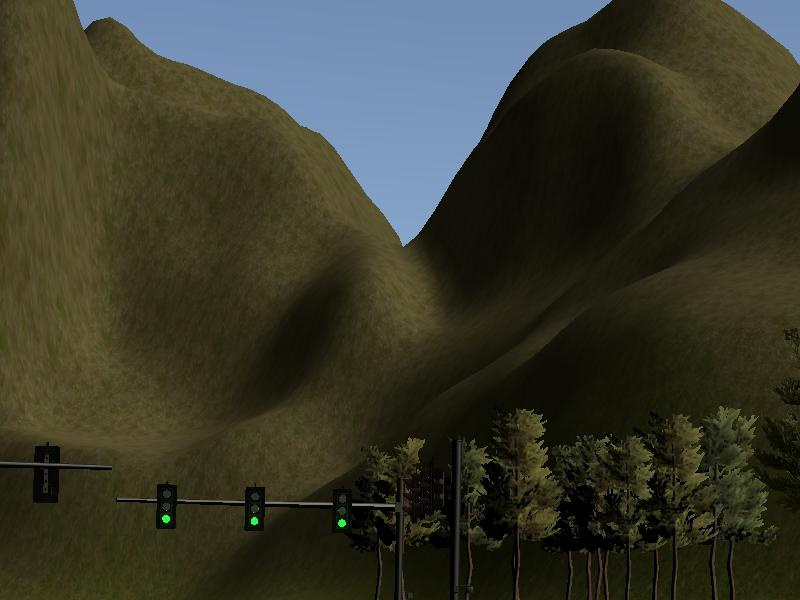green_light: (157, 484, 177, 529), (247, 489, 264, 530), (336, 492, 350, 531)
